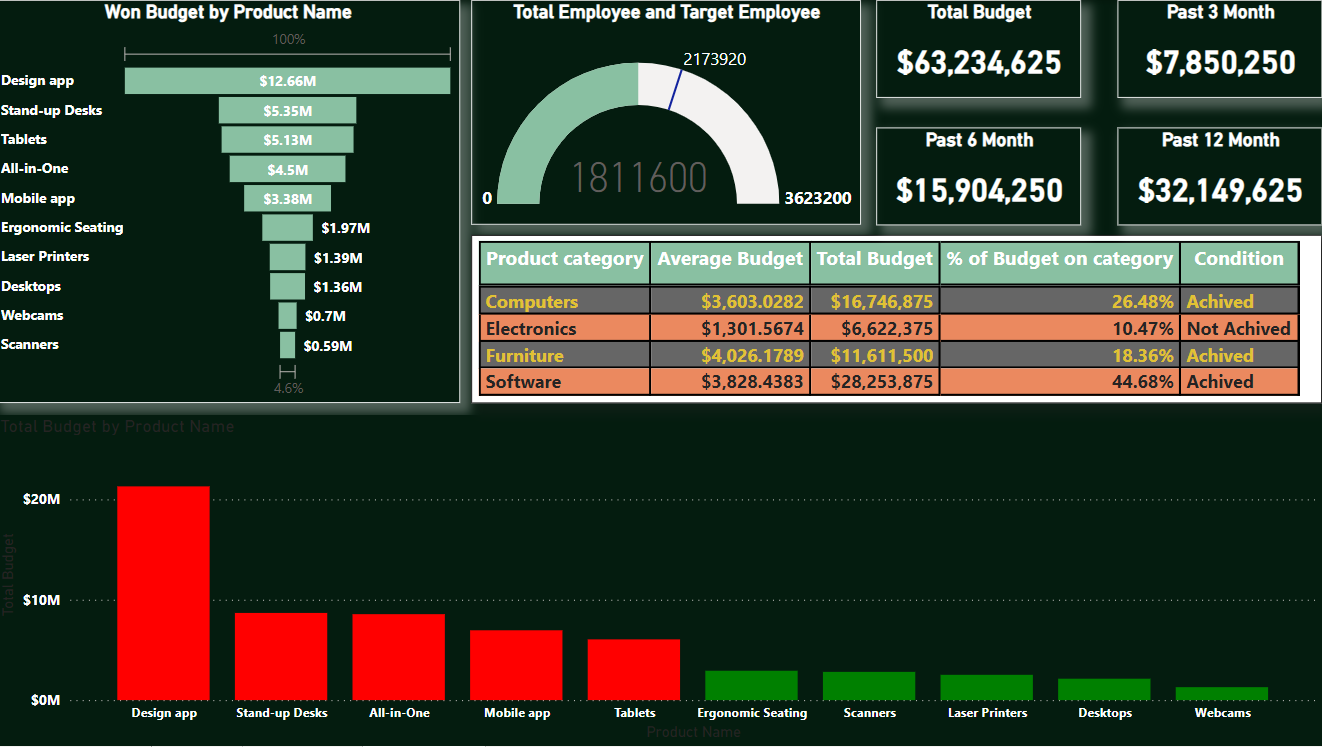

The dashboard page shown, as its layout file describes it:
{"tool":"powerbi","page":{"name":"summery2","canvas":[1280,720],"ordinal":2},"visuals":[{"type":"gauge","fields":{"Y":["All Measures.Total Employee"],"TargetValue":["All Measures.Target Employee"]},"box":[460.1,0,376.1,216.5],"z":0},{"type":"funnel","fields":{"Category":["Oppournities.Product Name"],"Y":["All Measures.Won Budget"]},"box":[0,0,448.7,388.9],"z":1000},{"type":"columnChart","fields":{"Y":["All Measures.Total Budget"],"Category":["Oppournities.Product Name"]},"box":[0,400.3,1280.6,319.1],"z":2000},{"type":"tableEx","fields":{"Values":["Products.Product category","All Measures.Average Budget","All Measures.Total Budget","All Measures.% of Budget on category","All Measures.Condition"]},"box":[460.1,226.5,820.5,162.4],"z":3000},{"type":"card","title":"Total  Budget","fields":{"Values":["All Measures.Total Budget"]},"box":[850.4,0,198,94],"z":4000},{"type":"card","title":"Past 3 Month","fields":{"Values":["All Measures.Past 3 Month"]},"box":[1082.6,0,198,94],"z":5000},{"type":"card","title":"Past 6 Month","fields":{"Values":["All Measures.Past 6 Month"]},"box":[850.4,122.5,198,94],"z":6000},{"type":"card","title":"Past 12 Month","fields":{"Values":["All Measures.Past 12 Month"]},"box":[1082.6,122.5,198,94],"z":7000}]}

Visuals, with their boxes in screenshot pixels (x1, y1, x2, y2), scaled from the page's 1280x720 canvas onto the 1322x747 screenshot:
gauge - All Measures.Total Employee x All Measures.Target Employee: 475, 0, 864, 225
funnel - Oppournities.Product Name x All Measures.Won Budget: 0, 0, 463, 403
columnChart - All Measures.Total Budget x Oppournities.Product Name: 0, 415, 1321, 746
tableEx - Products.Product category x All Measures.Average Budget: 475, 235, 1321, 403
"Total  Budget" card: 878, 0, 1083, 98
"Past 3 Month" card: 1118, 0, 1321, 98
"Past 6 Month" card: 878, 127, 1083, 225
"Past 12 Month" card: 1118, 127, 1321, 225
